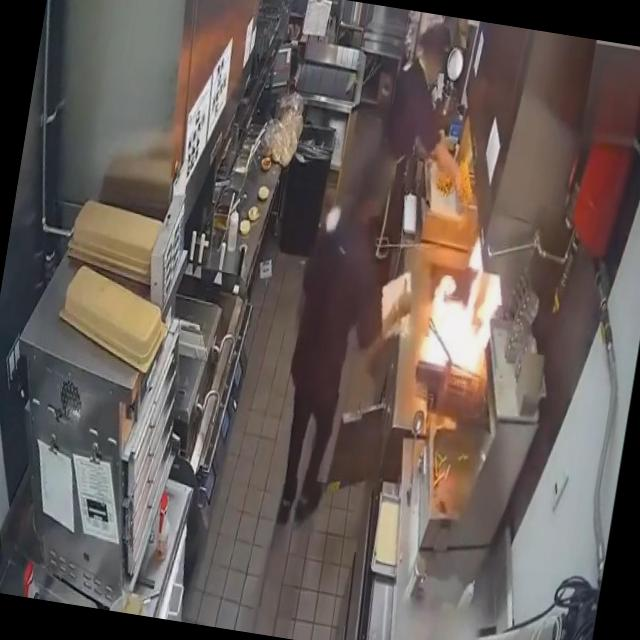fire: (414, 256, 497, 378)
